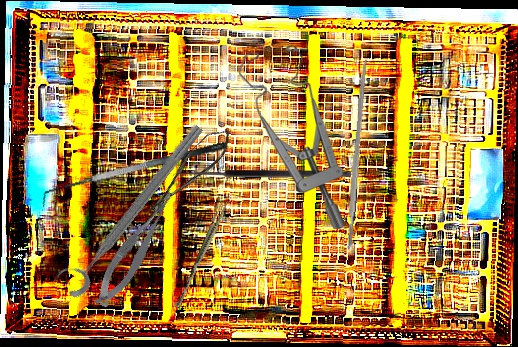Fixation Ring: (50, 112, 209, 302)
Hook Surgical: (173, 170, 351, 186)
Micro Scissor: (83, 188, 189, 313), (136, 122, 239, 223)
Scalpel Handle: (344, 58, 369, 252)
Spatula Surgical: (37, 139, 231, 209)
Speculum: (239, 46, 346, 229)
Tissue Forceps: (174, 200, 228, 310)
